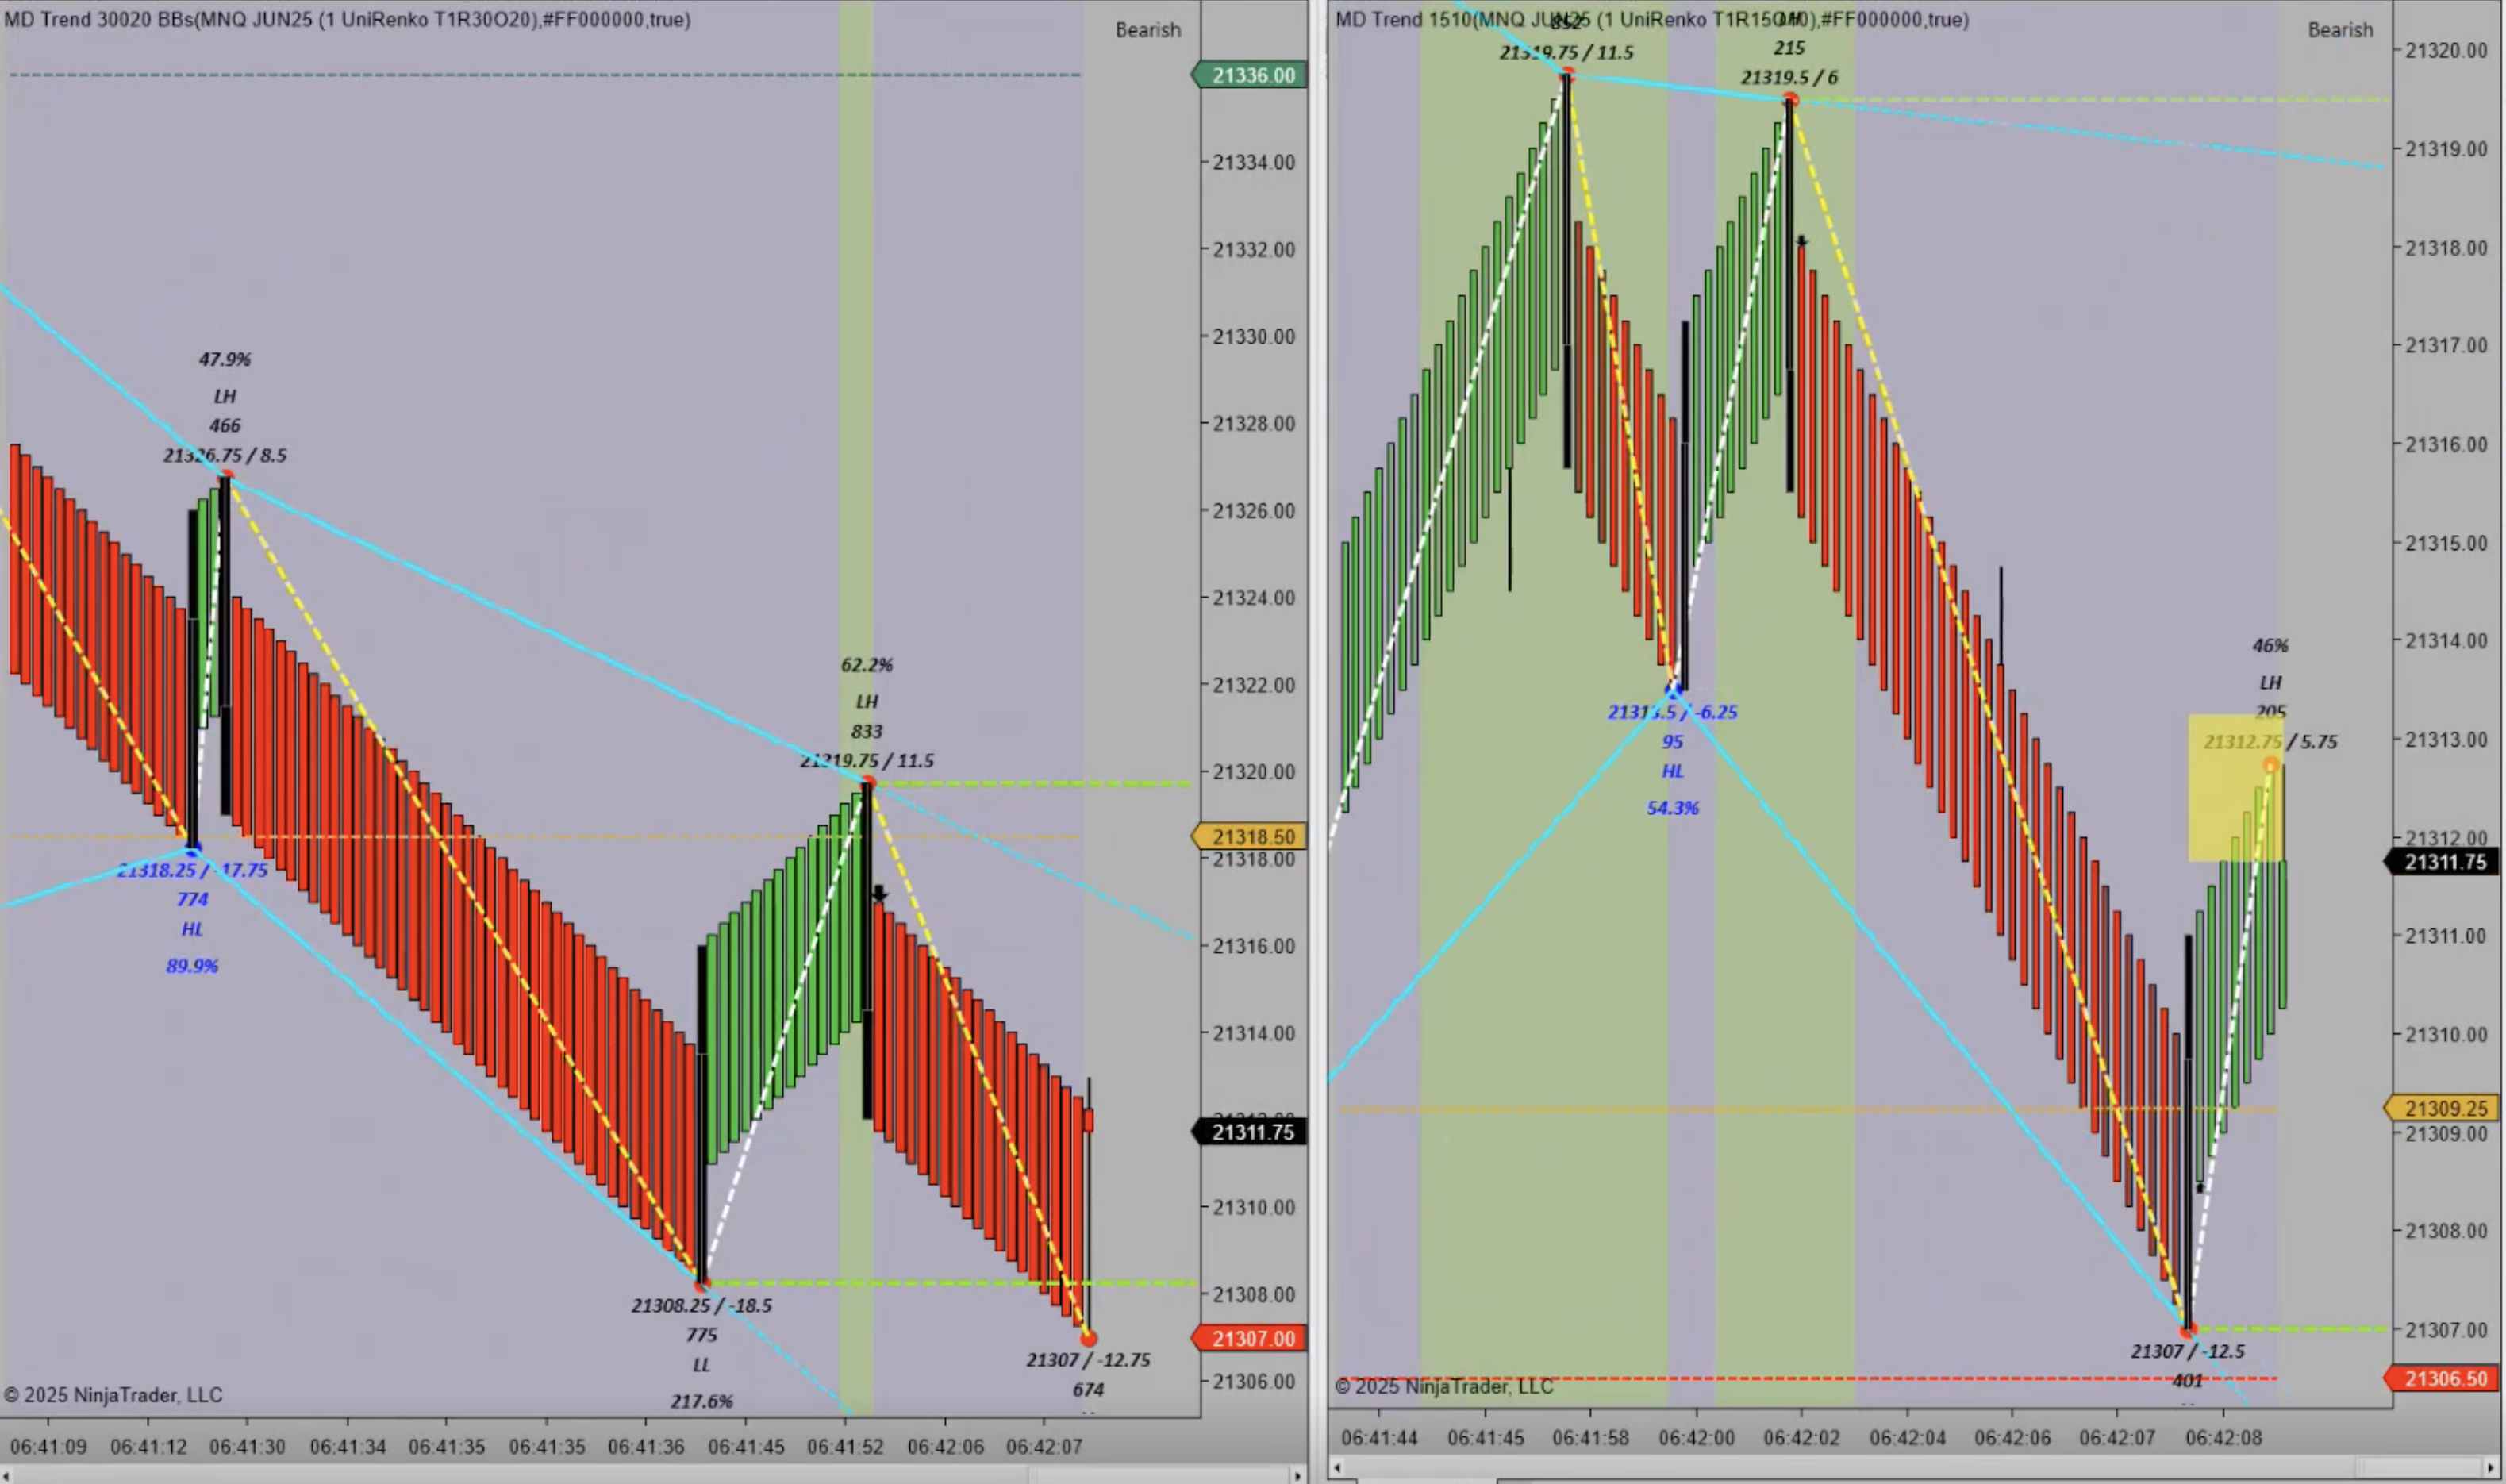candle: (1778, 92, 1805, 502), (1558, 69, 1581, 475), (212, 472, 235, 825), (857, 774, 879, 1127), (691, 938, 712, 1293), (2179, 929, 2197, 1329), (182, 507, 201, 857), (1678, 318, 1694, 700)
